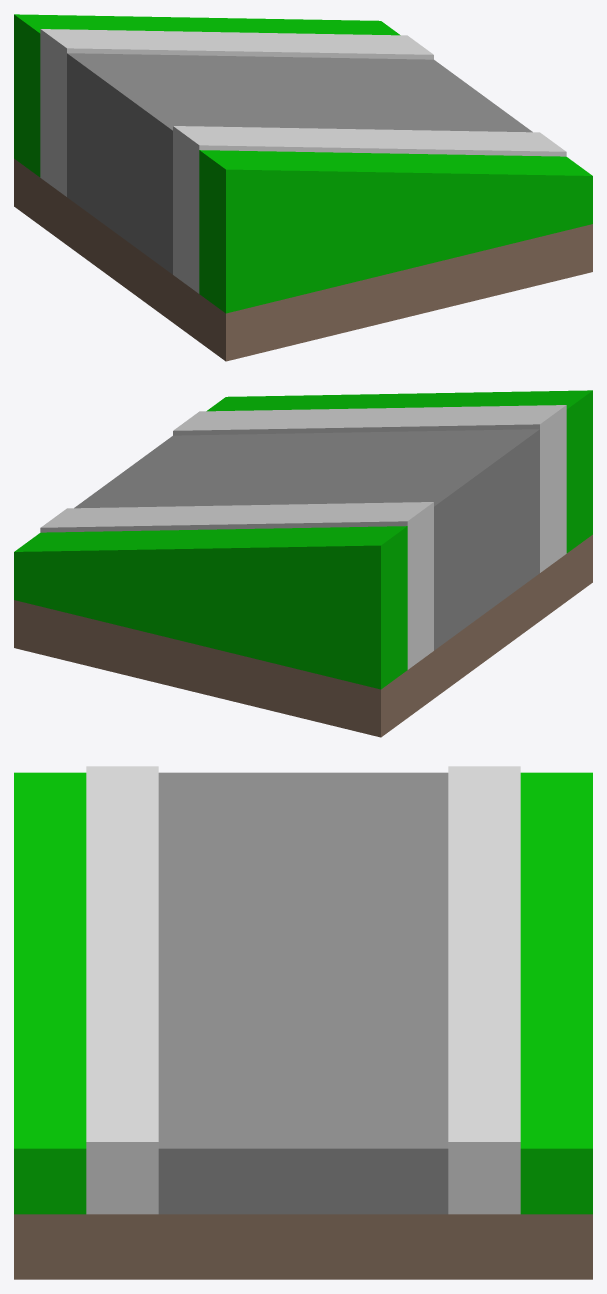
File: Rampa.fbx
3 views of the same model, one above another, from view 1: azimuth 30°, elevation 25°; view 2: azimuth 150°, elevation 25°; view 3: azimuth 270°, elevation 25° (orthographic). The views are drawn at different scales.
Visible parts, largest first — view 1: Rampa; view 2: Rampa; view 3: Rampa.
Part boxes in pixels (x1=…): Rampa: x1=14, y1=14, x2=592, y2=361; Rampa: x1=14, y1=390, x2=592, y2=737; Rampa: x1=14, y1=766, x2=592, y2=1279.
Bounding box in the file's own units: 8 × 4.1 × 8.
